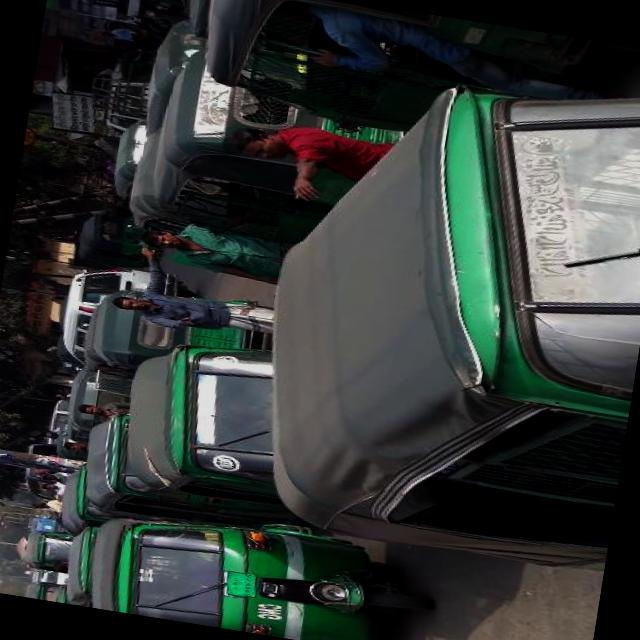bus: (23, 512, 55, 532)
car: (34, 566, 70, 586)
motorcycle: (236, 39, 640, 579), (191, 0, 619, 167), (78, 496, 445, 640), (144, 44, 386, 250), (118, 329, 324, 515), (72, 408, 271, 532), (124, 125, 294, 264), (80, 280, 272, 392), (138, 9, 215, 142), (73, 206, 167, 270), (56, 365, 135, 436), (54, 517, 111, 608), (108, 116, 158, 201), (48, 465, 107, 534), (18, 524, 76, 574), (94, 14, 163, 50), (169, 0, 222, 39), (84, 132, 124, 176), (49, 418, 88, 459), (22, 572, 66, 601)
truck: (44, 254, 170, 378), (94, 67, 160, 135), (14, 438, 72, 505), (42, 386, 76, 445)
